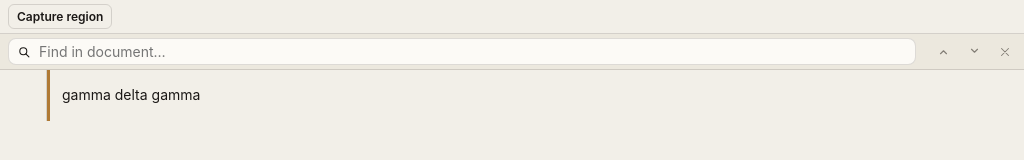
Test: DocPaneBody › shows the SearchBar and highlights matches only when searchOpen
In the field named "Search this document": (472,52) top-left (37, 42), bottom-right (907, 61), type "gamma"
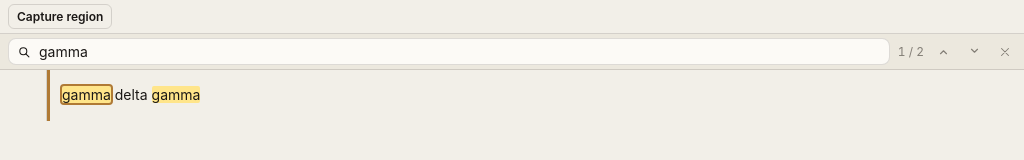
Expected: the text with test id "search-count" reads "1 / 2", top-left (898, 44), bottom-right (924, 59)
